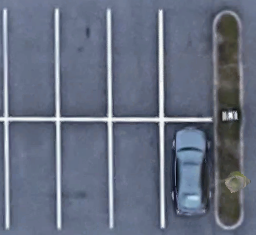Occupied: (162, 120, 215, 227)
Vacant: (56, 8, 110, 120), (5, 8, 59, 119), (5, 120, 59, 231), (161, 10, 215, 119), (109, 10, 162, 120), (58, 120, 111, 228), (110, 120, 163, 228)
